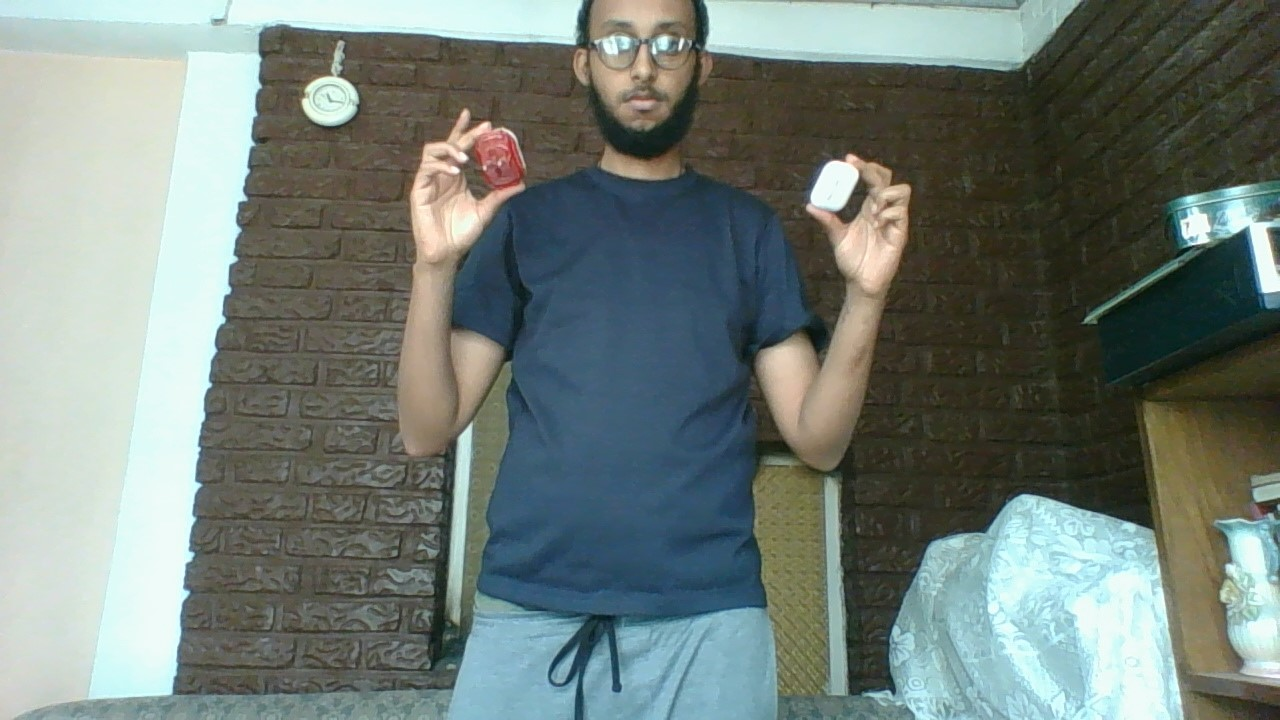Air_pod: (808, 157, 860, 214)
Multi_adapter: (470, 126, 530, 191)
